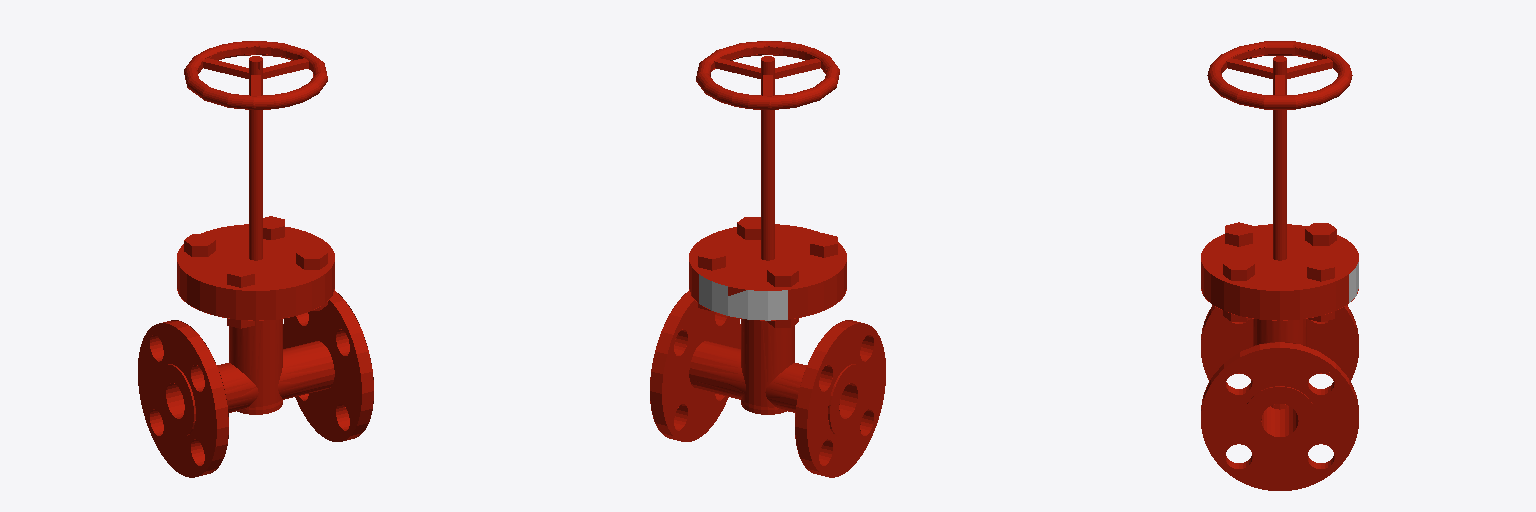
3 views of the same model, side by side, from view 1: azimuth 30°, elevation 25°; view 2: azimuth 150°, elevation 25°; view 3: azimuth 270°, elevation 25° (orthographic).
Parts seen in each view (by area): view 1: Level_2; view 2: Level_2; view 3: Level_2.
Boxes of the visible parts, <box> form: Level_2: <box>138,41,373,477</box>; Level_2: <box>650,41,885,477</box>; Level_2: <box>1201,41,1358,490</box>.
Bounding box in the file's own units: 127 × 296 × 108.